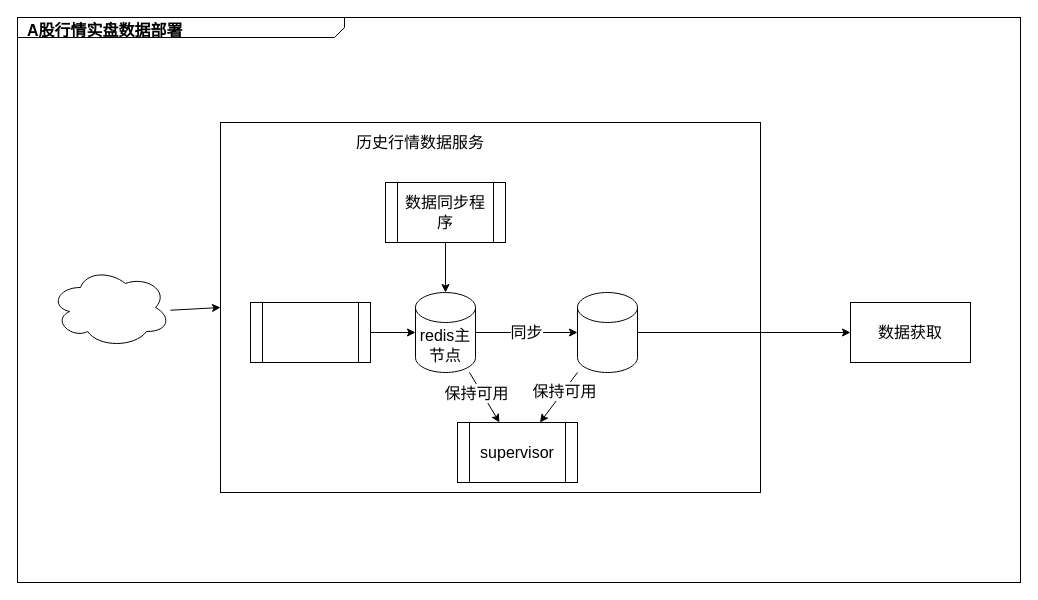
Image size: 1038x600. Some labels were removed from this diagram. The centre of each missing label's shape, as x and y in pixels:
"redis从节点" goes at [607,332].
"数据过期删除" goes at [310,332].
"聚宽行情API" goes at [110,307].
